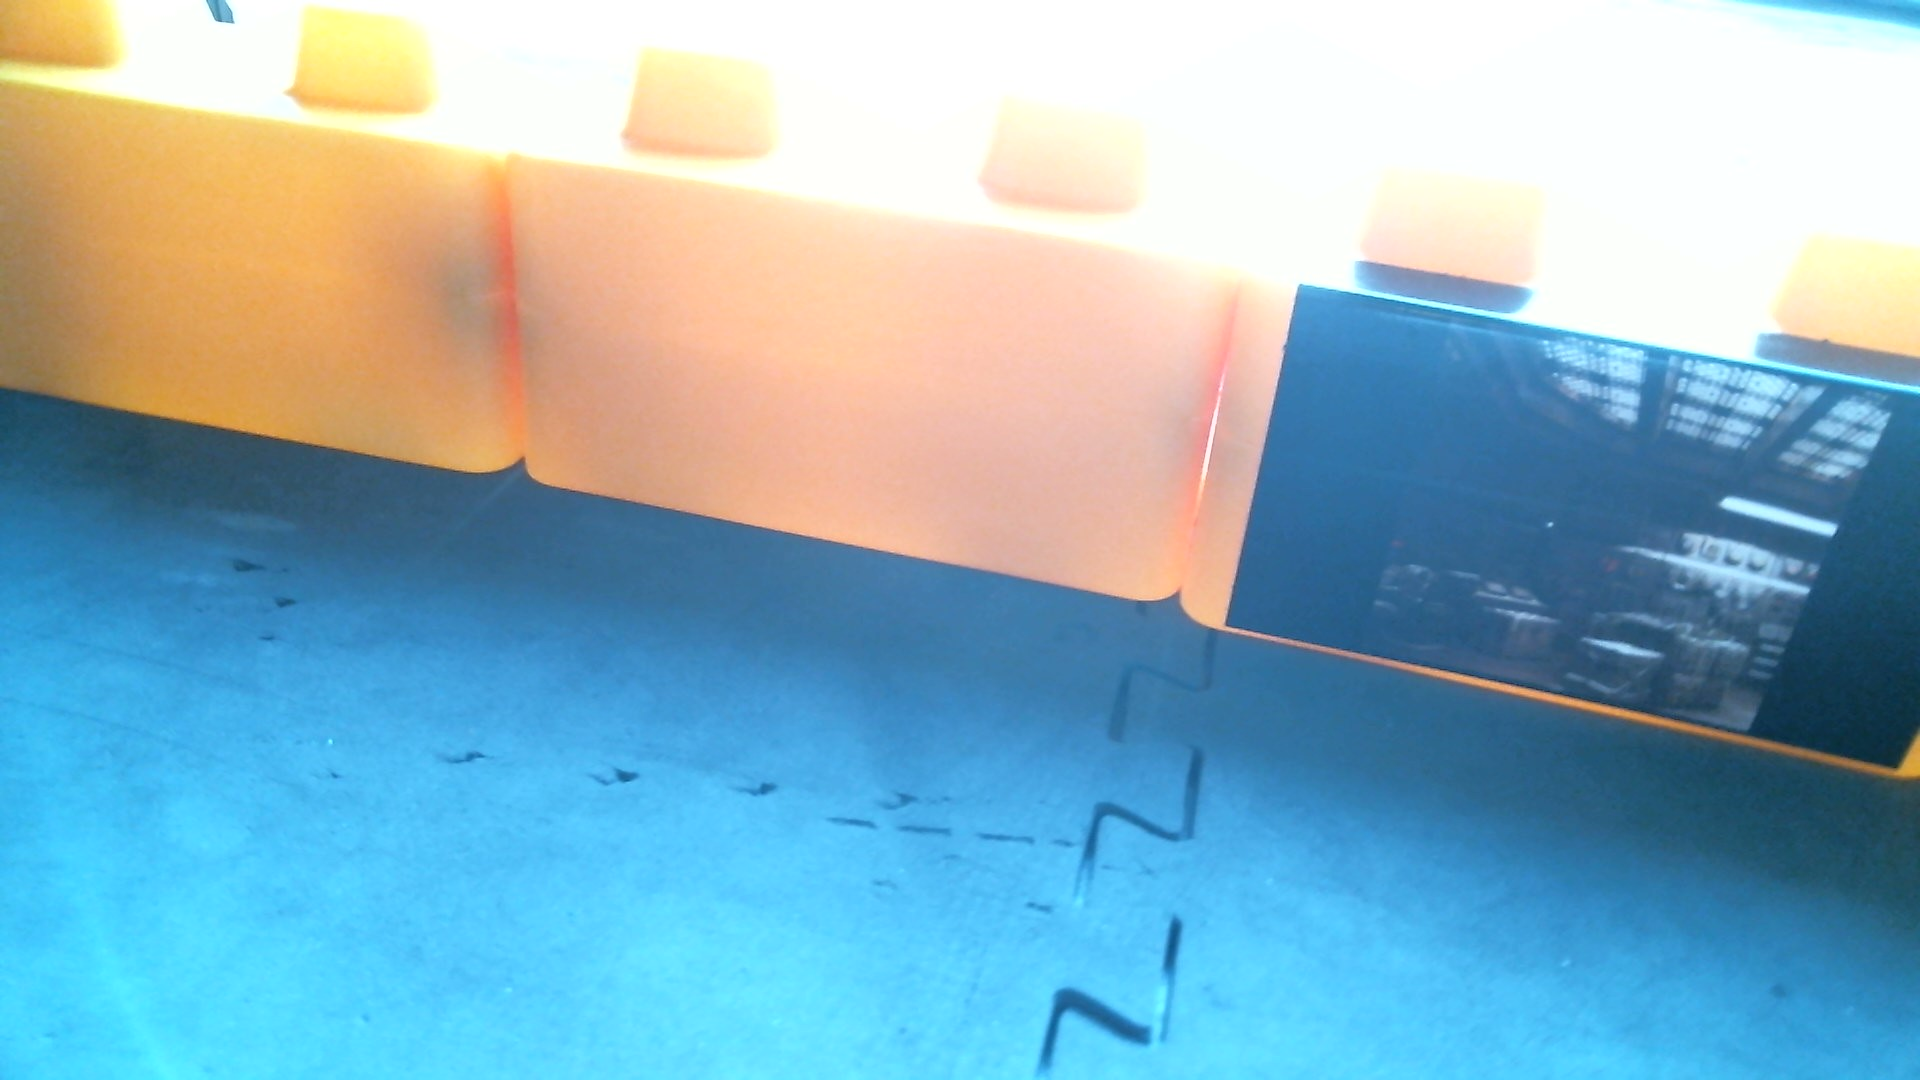right: (9, 4, 1920, 781)
